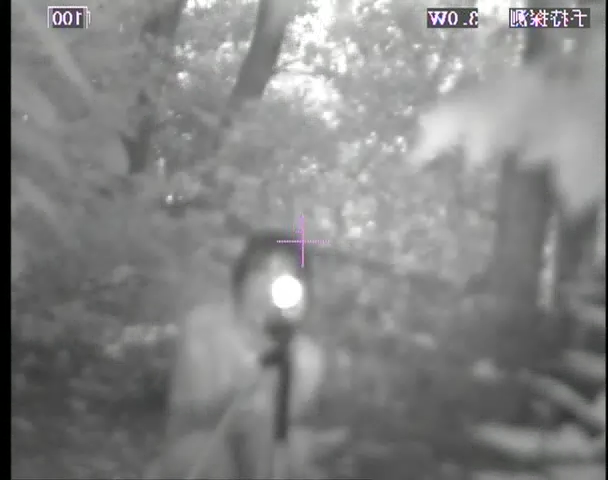my: (271, 274, 303, 309)
